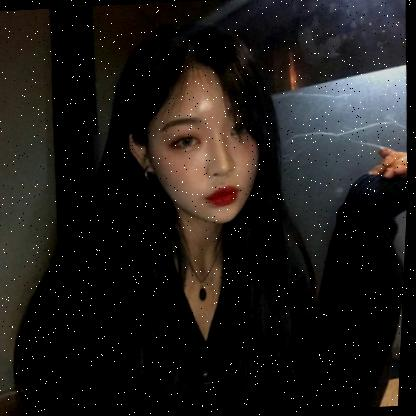person: (102, 22, 295, 235)
